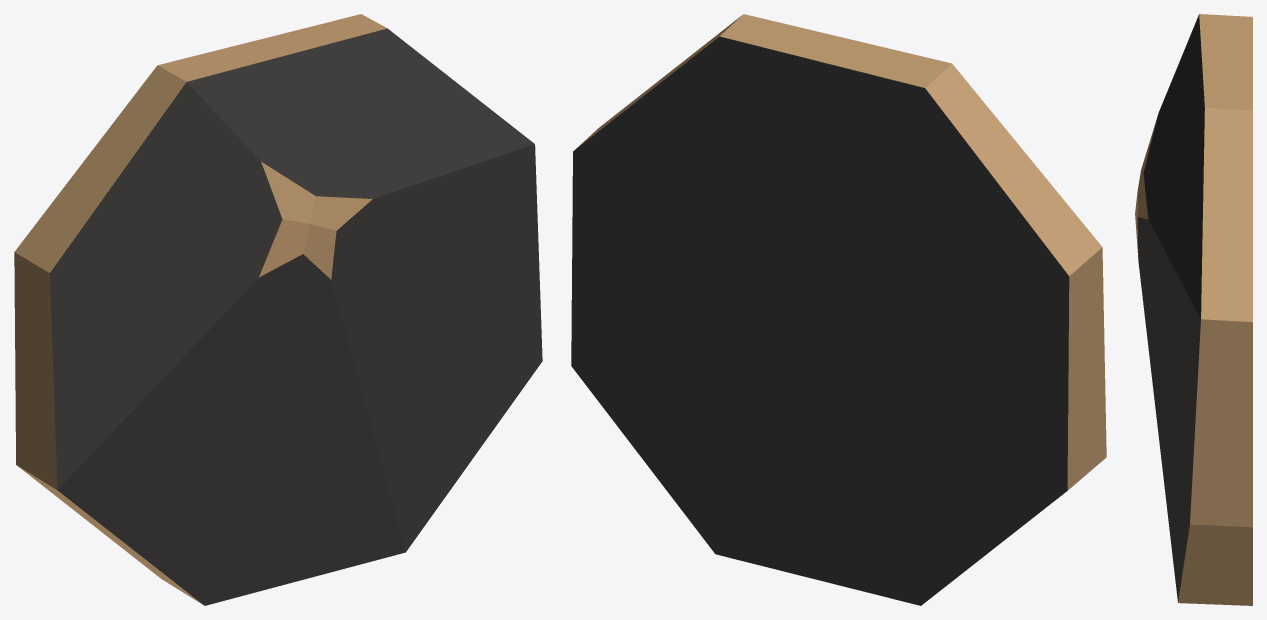
Rendered from FurnAcc_WallArt.fbx.
3 renders of one model, left to right at view 1: azimuth 30°, elevation 25°; view 2: azimuth 150°, elevation 25°; view 3: azimuth 270°, elevation 25°, orthographic. The views are drawn at different scales.
Visible parts, largest first — view 1: FurnAcc_WallArt; view 2: FurnAcc_WallArt; view 3: FurnAcc_WallArt.
Boxes of the visible parts, x1=… form: FurnAcc_WallArt: x1=14, y1=14, x2=542, y2=605; FurnAcc_WallArt: x1=571, y1=14, x2=1106, y2=605; FurnAcc_WallArt: x1=1135, y1=14, x2=1252, y2=605.
Size of the model in its own units: 64.22 by 64.42 by 13.82.
